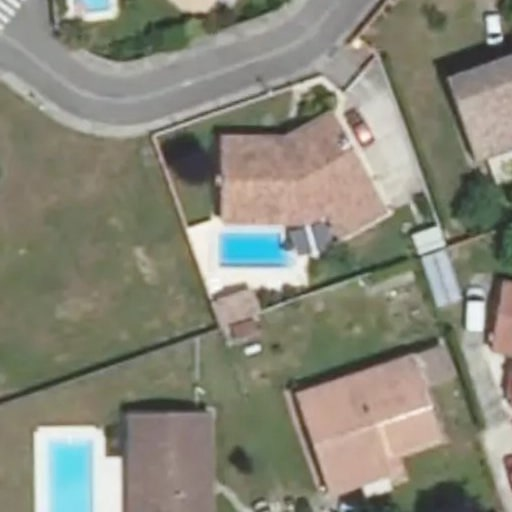pool: (35, 428, 105, 512), (211, 227, 290, 271), (73, 2, 119, 17)
